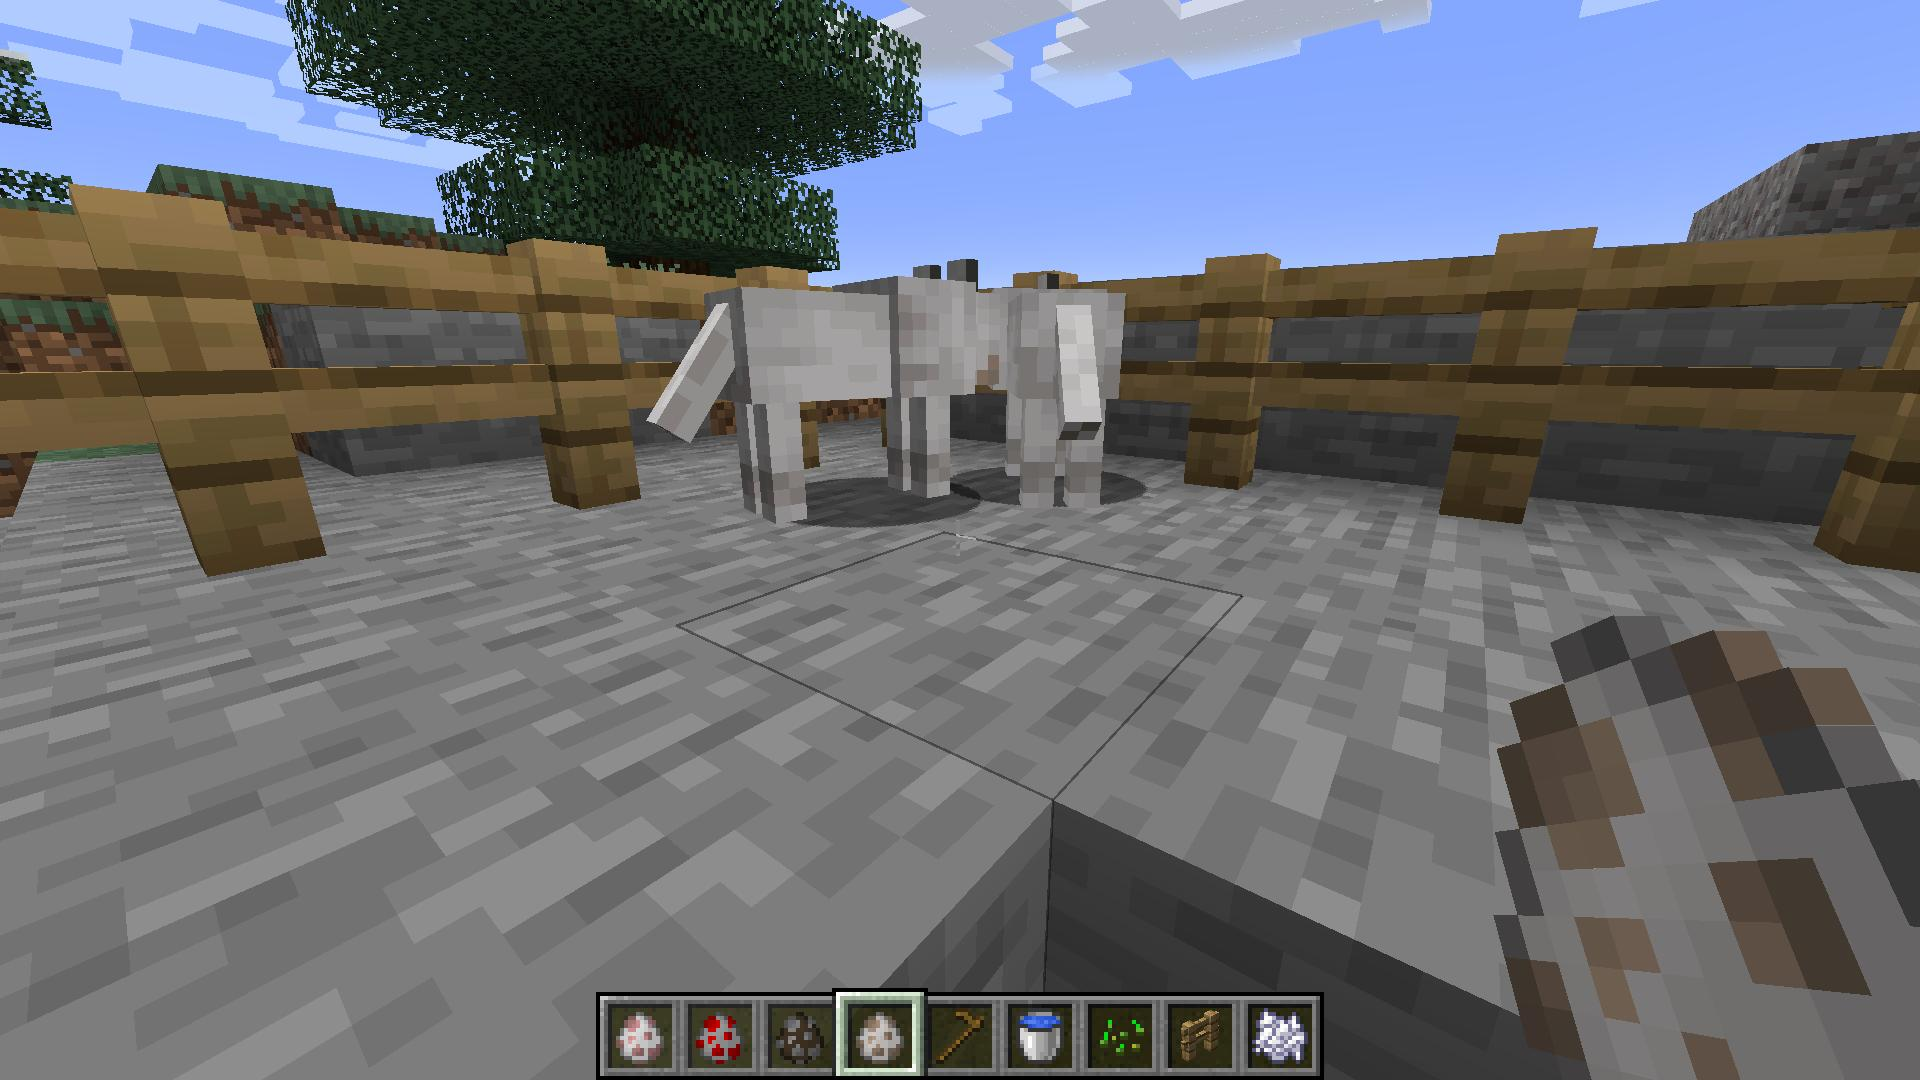wolf: (642, 252, 1010, 533), (996, 276, 1137, 520)
